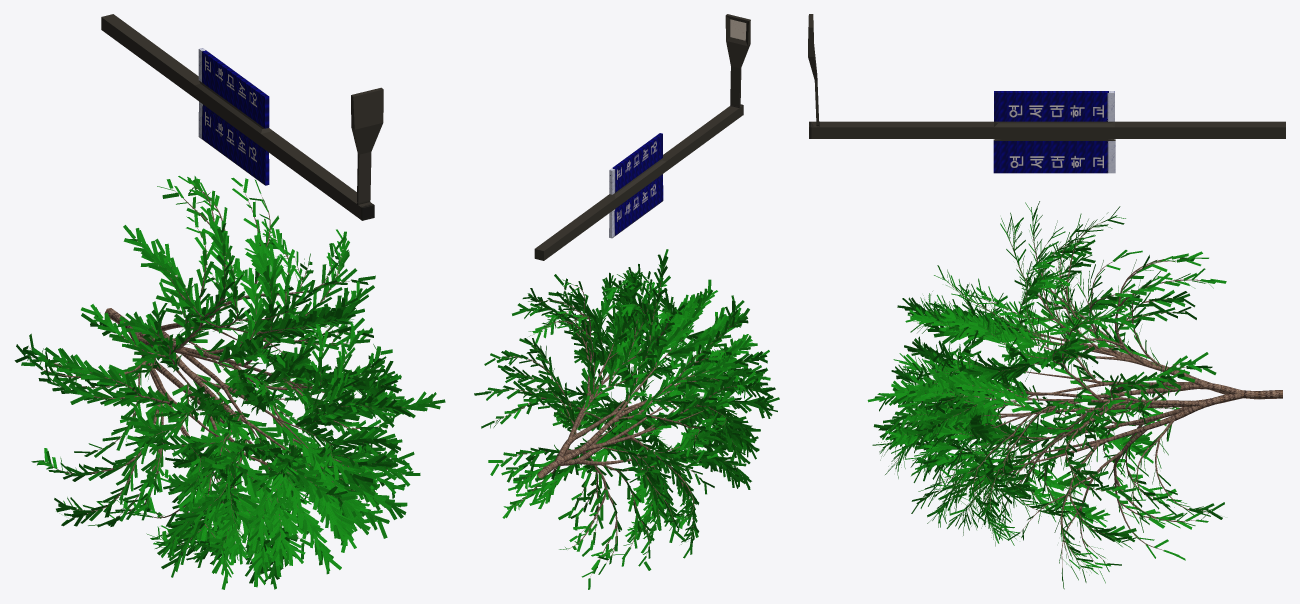
3 renders of one model, left to right at view 1: azimuth 30°, elevation 25°; view 2: azimuth 150°, elevation 25°; view 3: azimuth 270°, elevation 25°, orthographic. The views are drawn at different scales.
Parts seen in each view (by area): view 1: leaves, tree, Cube.003, Cube.001, Cube.002, Cube.004; view 2: leaves, tree, Cube.003, Cube.004, Cube.001, Cube.002; view 3: leaves, tree, Cube.003, Cube.001, Cube.002.
Part boxes in pixels (x1,y1,x2,y2): leaves: [14, 176, 445, 589]; tree: [28, 184, 427, 568]; Cube.003: [101, 14, 374, 220]; Cube.001: [198, 101, 269, 185]; Cube.002: [198, 48, 269, 128]; Cube.004: [351, 87, 383, 203]; leaves: [474, 249, 779, 589]; tree: [492, 266, 761, 576]; Cube.003: [534, 104, 743, 260]; Cube.004: [725, 14, 750, 106]; Cube.001: [609, 174, 663, 238]; Cube.002: [609, 133, 662, 194]; leaves: [867, 201, 1226, 589]; tree: [887, 217, 1282, 570]; Cube.003: [809, 121, 1285, 140]; Cube.001: [993, 141, 1115, 173]; Cube.002: [994, 91, 1114, 121].
Bounding box in the file's own units: 846 × 1356 × 1078.
Materials: 3 (3 with a texture image).
